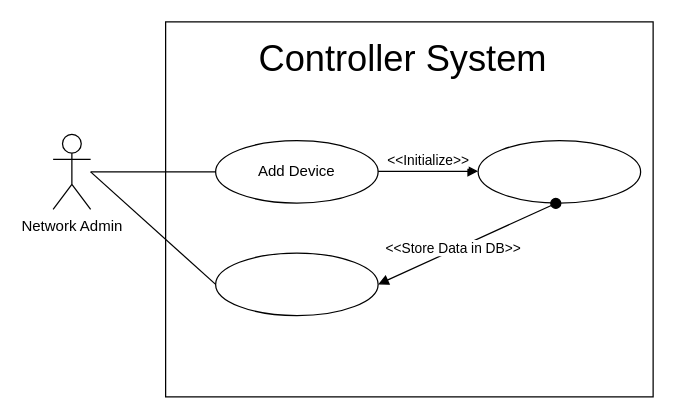
The diagram is 675 pixels wide and 419 high, and some of its shapes have lost their labels. The box of each missing label's shape, as (x1, y1, x2, y2) in pixels:
Get Data from DB: (214, 252, 378, 316)
Get Device Data: (477, 139, 641, 203)
